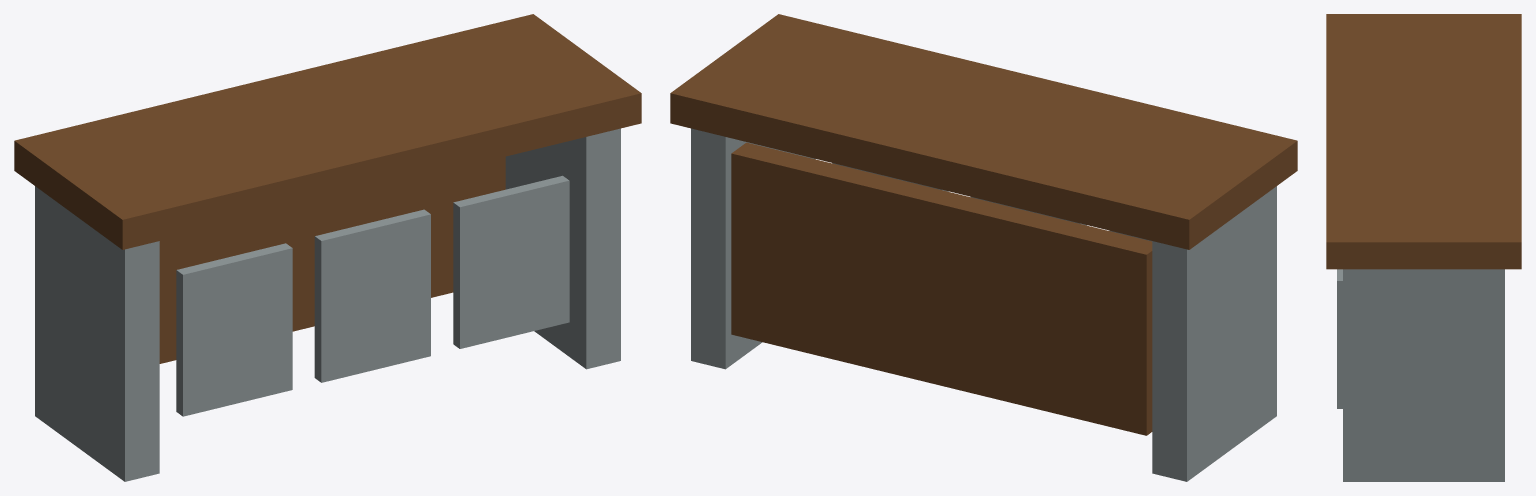
File: FRM_020_F_LODs.fbx
3 views of the same model, side by side, from view 1: azimuth 30°, elevation 25°; view 2: azimuth 150°, elevation 25°; view 3: azimuth 270°, elevation 25° (orthographic). The views are drawn at different scales.
Visible parts, largest first — view 1: FRM_020_F_LOD0; view 2: FRM_020_F_LOD0; view 3: FRM_020_F_LOD0.
Boxes of the visible parts, x1,y1,x2,y2 form: FRM_020_F_LOD0: [14, 14, 641, 481]; FRM_020_F_LOD0: [670, 14, 1297, 481]; FRM_020_F_LOD0: [1326, 14, 1521, 481].
Size of what is drawn, in the model's own units: 1.8 by 0.9 by 0.65.
